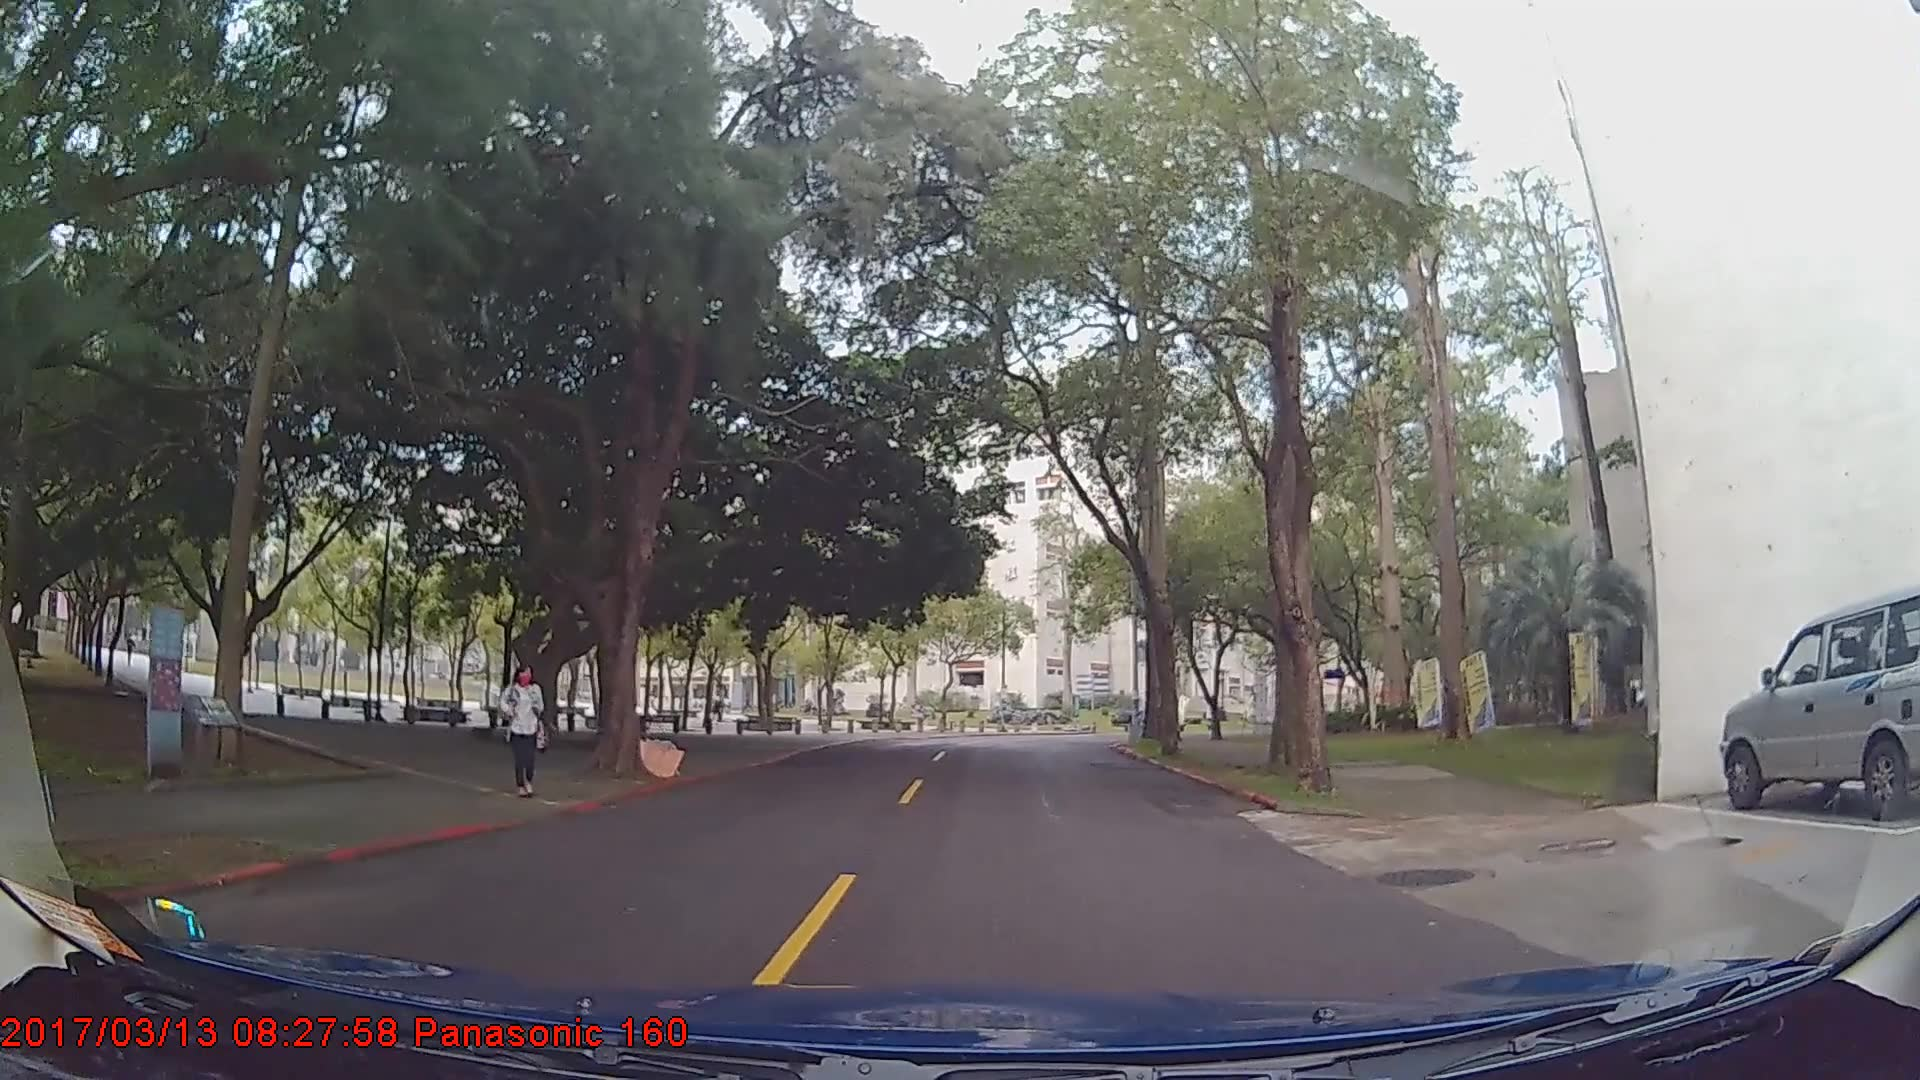pedestrian: (497, 664, 552, 799)
vehicle: (1721, 583, 1920, 820)
